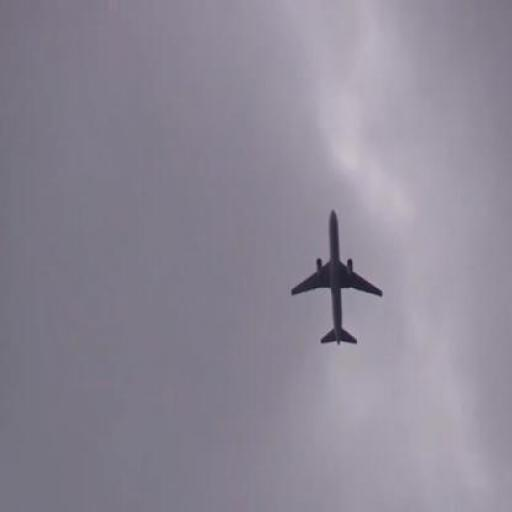aircraft: (291, 210, 384, 344)
